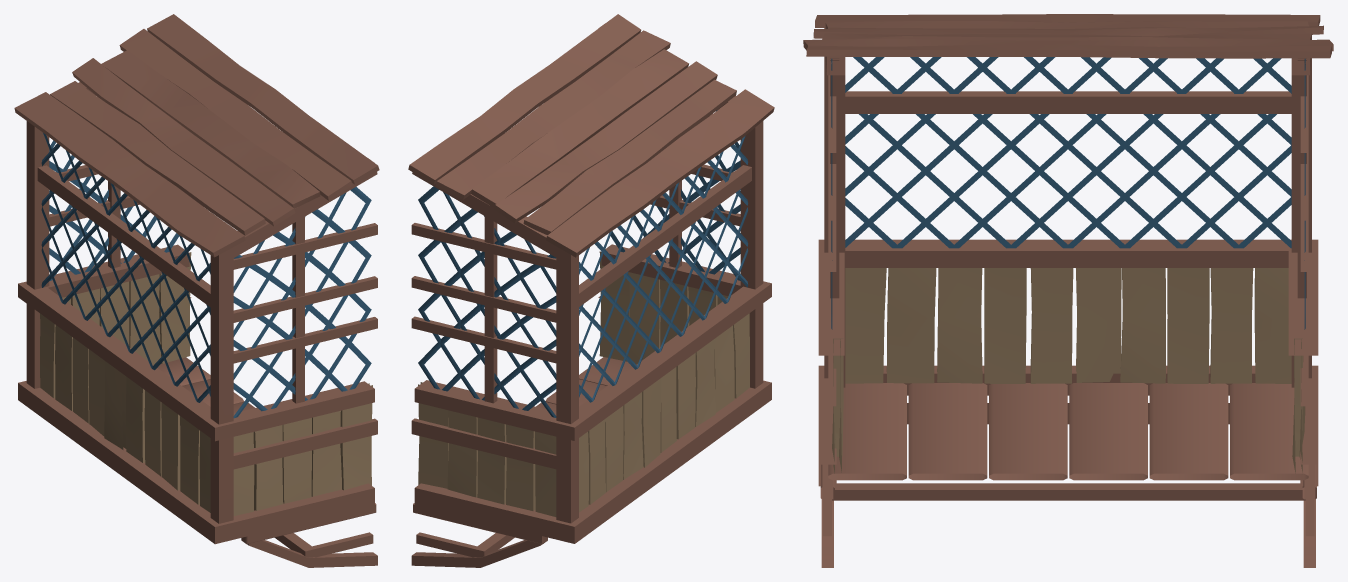
The model's file is balcony_2.FBX.
3 renders of one model, left to right at view 1: azimuth 30°, elevation 25°; view 2: azimuth 150°, elevation 25°; view 3: azimuth 270°, elevation 25°, orthographic. The views are drawn at different scales.
Parts seen in each view (by area): view 1: balcony_2_LOD0; view 2: balcony_2_LOD0; view 3: balcony_2_LOD0.
Part boxes in pixels (bbox=[...]): balcony_2_LOD0: bbox=[14, 14, 379, 567]; balcony_2_LOD0: bbox=[408, 14, 774, 567]; balcony_2_LOD0: bbox=[803, 14, 1333, 567].
Size of what is drawn, in the model's own units: 274 by 619 by 577.
